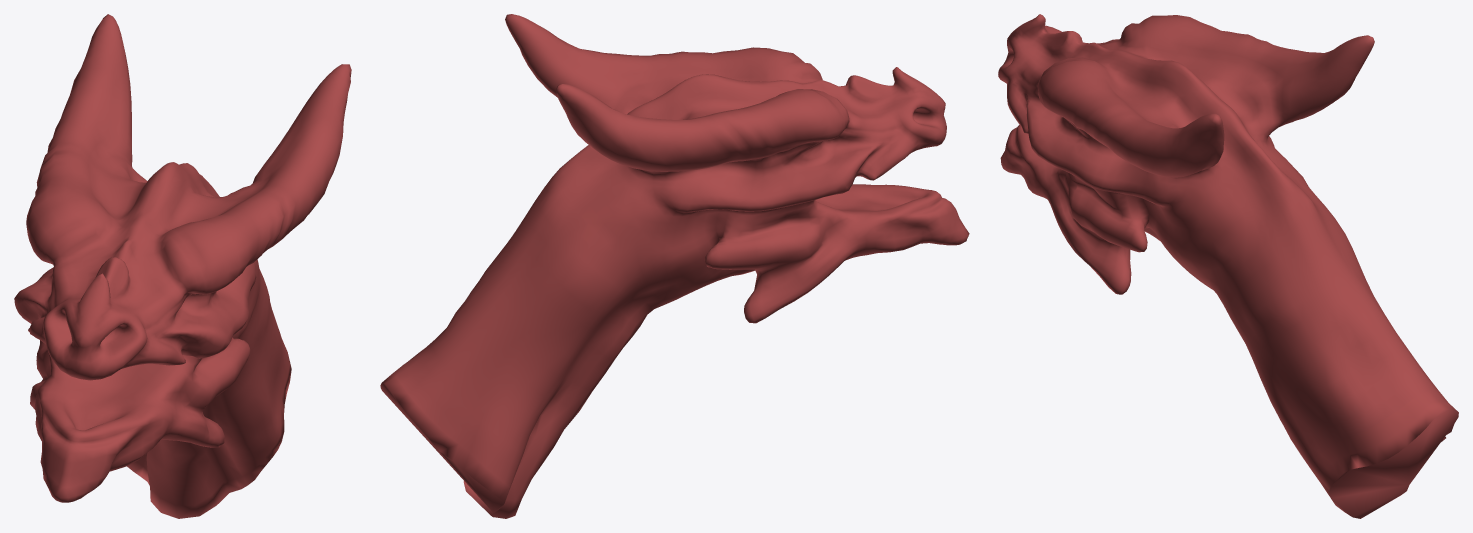
Rendered from Dragon_Cabeza_RU.obj.
The picture shows the model from 3 angles, left to right: view 1: azimuth 30°, elevation 25°; view 2: azimuth 150°, elevation 25°; view 3: azimuth 270°, elevation 25°; orthographic projection. The views are drawn at different scales.
Parts seen in each view (by area): view 1: Dragon_Cabeza_RU; view 2: Dragon_Cabeza_RU; view 3: Dragon_Cabeza_RU.
Part boxes in pixels (<box>): Dragon_Cabeza_RU: <box>14,14,351,518</box>; Dragon_Cabeza_RU: <box>380,14,969,518</box>; Dragon_Cabeza_RU: <box>998,14,1458,518</box>.
Bounding box in the file's own units: 1.93 × 2.09 × 1.97.
